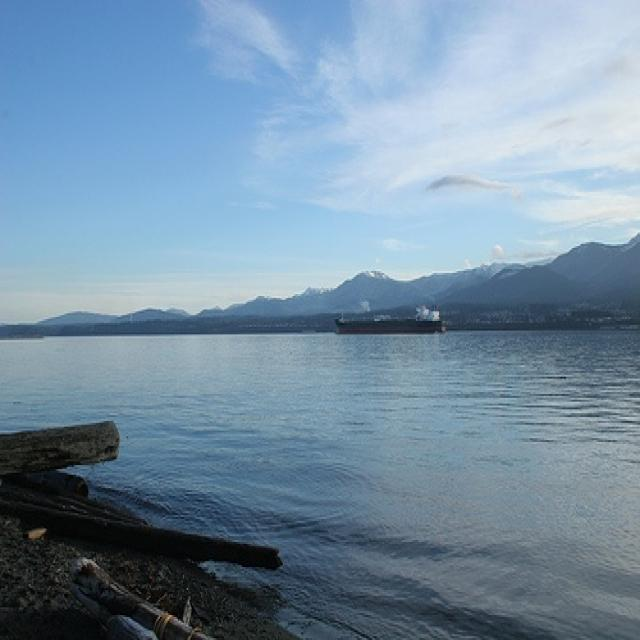boat: (332, 298, 448, 340)
